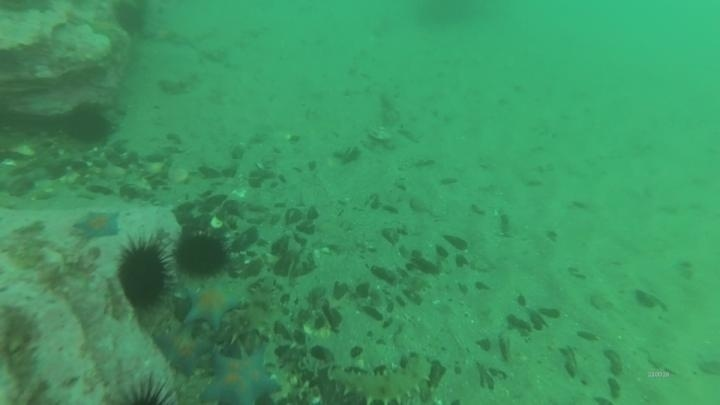echinus: (114, 237, 173, 313), (173, 230, 231, 280), (62, 101, 115, 148), (105, 372, 180, 405), (110, 1, 152, 38)
holothurian: (326, 352, 437, 404), (226, 273, 285, 346)
starfish: (199, 343, 283, 405), (179, 281, 246, 332), (152, 324, 212, 377), (72, 208, 123, 243)
